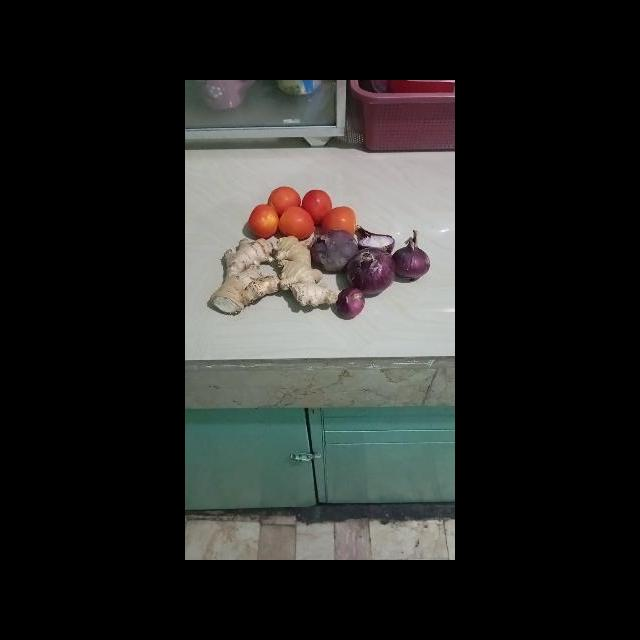ginger: (206, 236, 285, 316), (273, 235, 341, 310)
onion: (347, 245, 398, 296), (309, 227, 362, 275), (392, 229, 433, 282), (353, 222, 398, 258), (335, 284, 369, 320)
